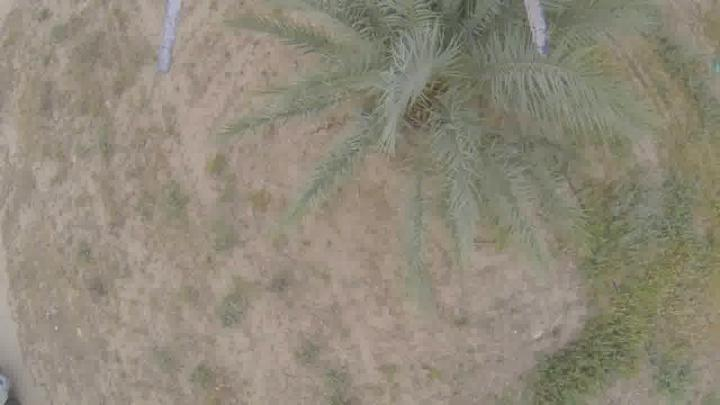Date-Palm-Crown: (345, 1, 573, 164)
